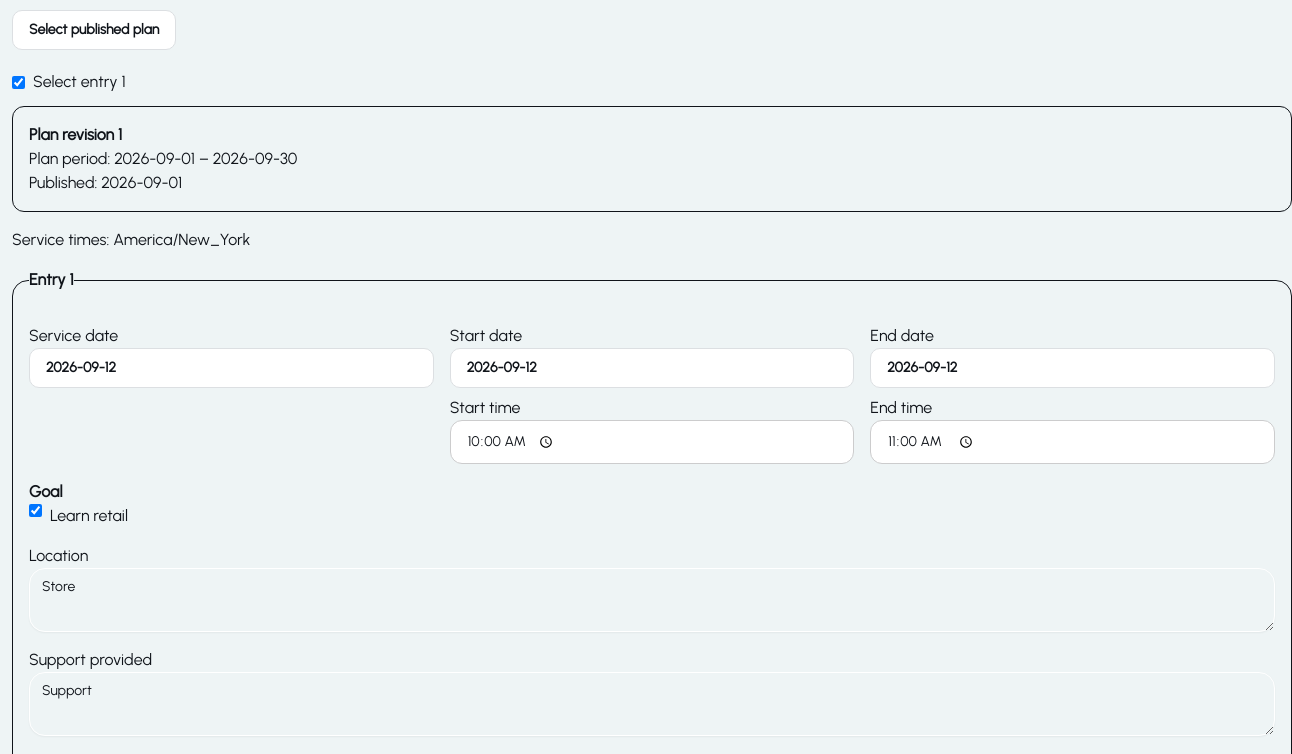
retains draft content after conflict and offers explicit reload
Step 1. Replace the text in the text box labelled "Support provided" with "Keep my text" → point(652, 704), box top-left (29, 672), bottom-right (1275, 736)
(page scrolled)
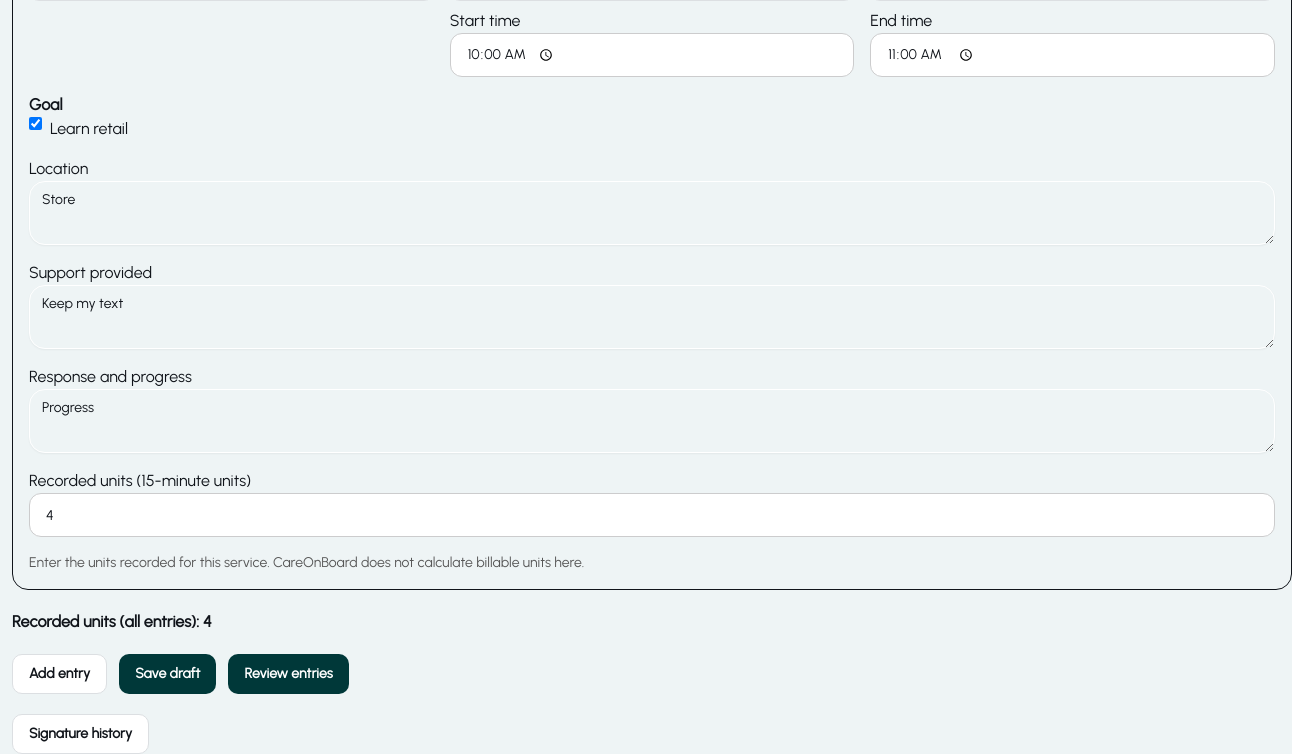
Step 2. Click the button "Save draft" → point(168, 674), box top-left (119, 654), bottom-right (216, 694)
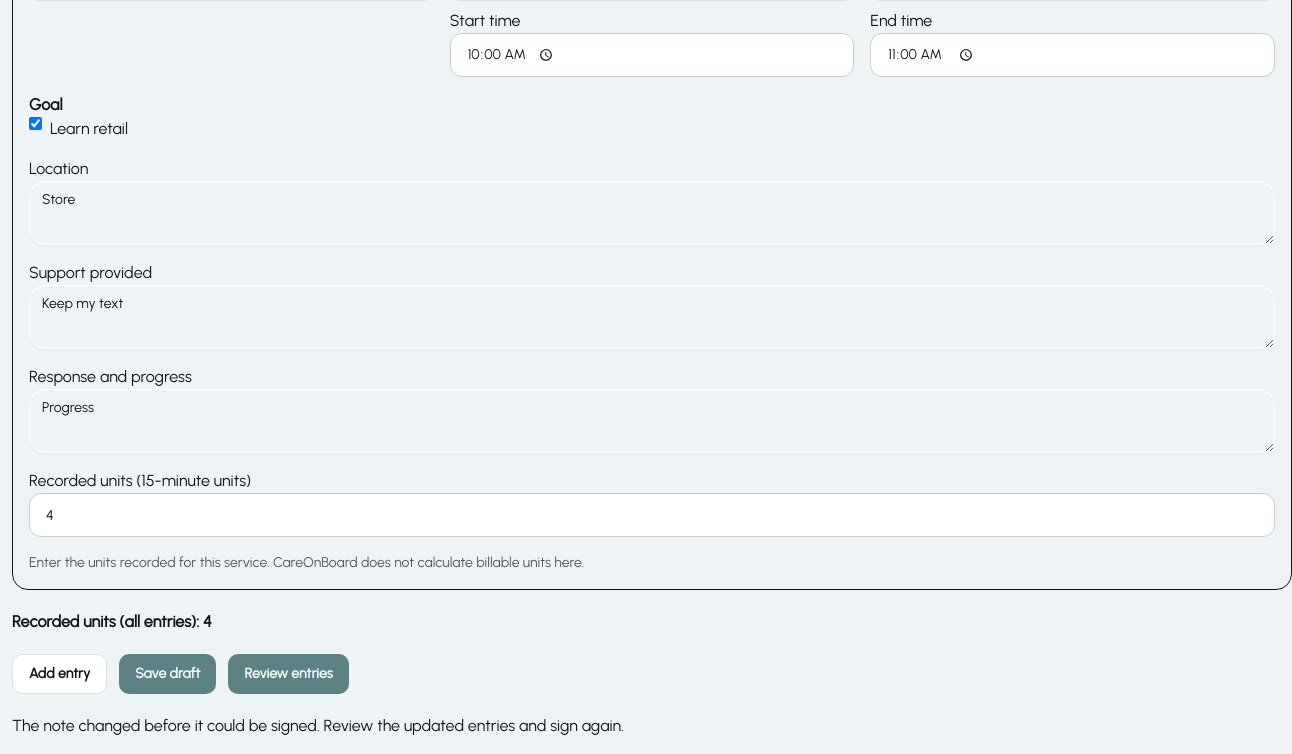
Check: the button "Review entries" is disabled, box top-left (228, 654), bottom-right (349, 694)
